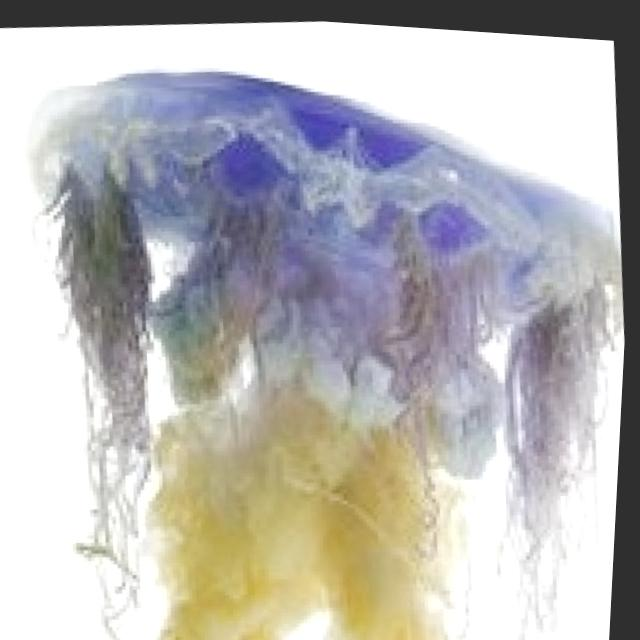Jellyfish: (0, 14, 639, 640)
